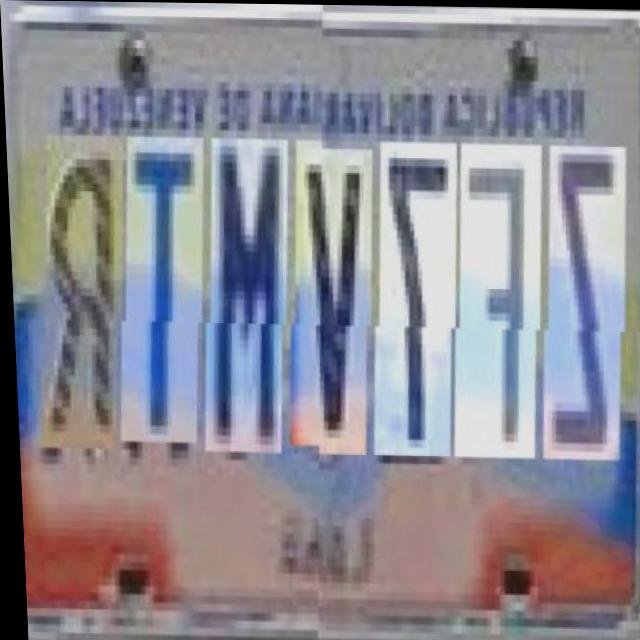7: (365, 140, 464, 455)
f: (445, 142, 549, 457)
m: (195, 145, 295, 460)
r: (30, 144, 130, 458)
t: (111, 144, 210, 451)
v: (280, 147, 379, 454)
z: (533, 144, 633, 458)
